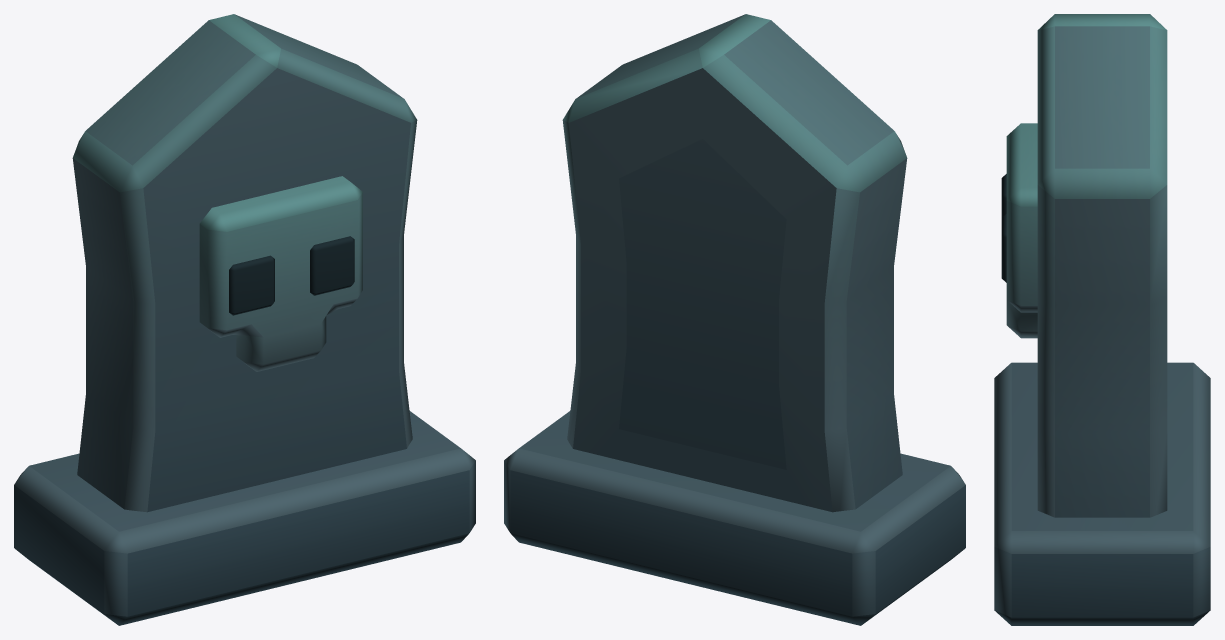
File: grave_stone_1.fbx
3 renders of one model, left to right at view 1: azimuth 30°, elevation 25°; view 2: azimuth 150°, elevation 25°; view 3: azimuth 270°, elevation 25°, orthographic.
Visible parts, largest first — view 1: grave_stone_1; view 2: grave_stone_1; view 3: grave_stone_1.
Boxes of the visible parts, x1=… form: grave_stone_1: x1=14, y1=14, x2=475, y2=625; grave_stone_1: x1=504, y1=14, x2=965, y2=625; grave_stone_1: x1=994, y1=14, x2=1210, y2=625.
Size of the model in its own units: 90 by 120 by 45.
